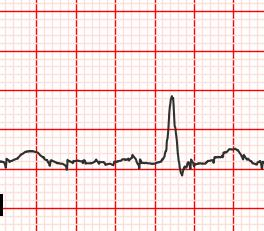LVH: (208, 145, 257, 170)
